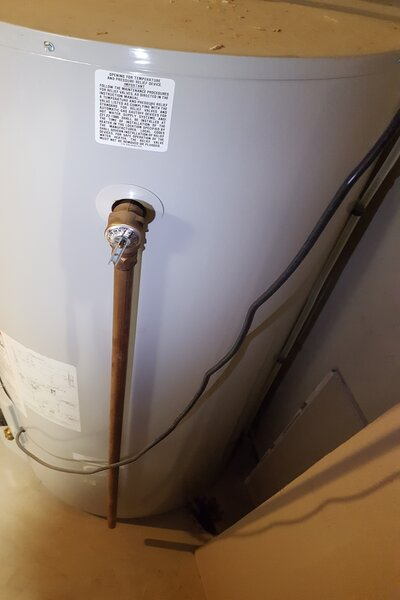valve: (102, 199, 147, 280)
